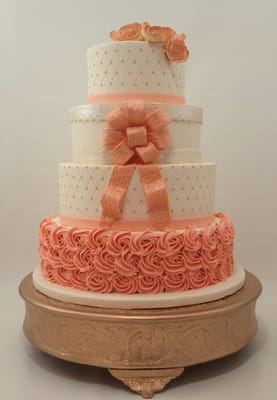sushi: (20, 95, 251, 388)
